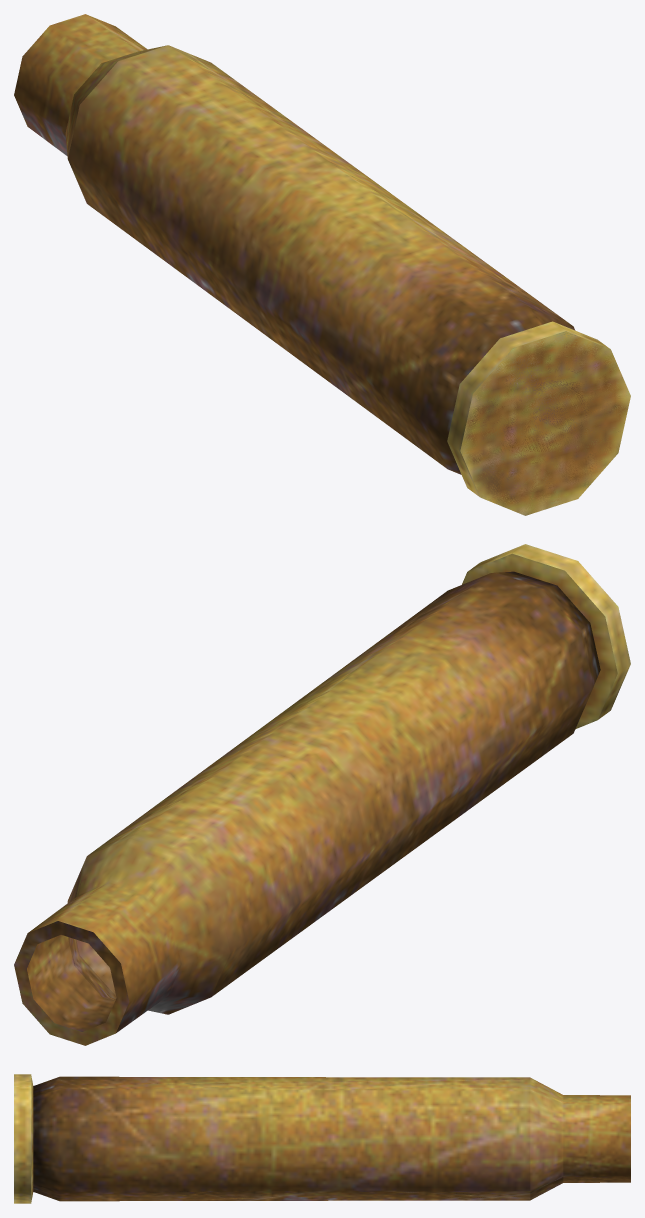
Rendered from bullet.obj.
3 renders of one model, top to bottom at view 1: azimuth 30°, elevation 25°; view 2: azimuth 150°, elevation 25°; view 3: azimuth 270°, elevation 25°, orthographic. The views are drawn at different scales.
Visible parts, largest first — view 1: bullet; view 2: bullet; view 3: bullet.
Boxes of the visible parts, box(x1,y1,x2,y2) form: bullet: box(14, 14, 630, 515); bullet: box(14, 544, 630, 1045); bullet: box(14, 1074, 630, 1203).
Bounding box in the file's own units: 1.35 × 1.33 × 6.52.
Materials: 1 (1 with a texture image).
